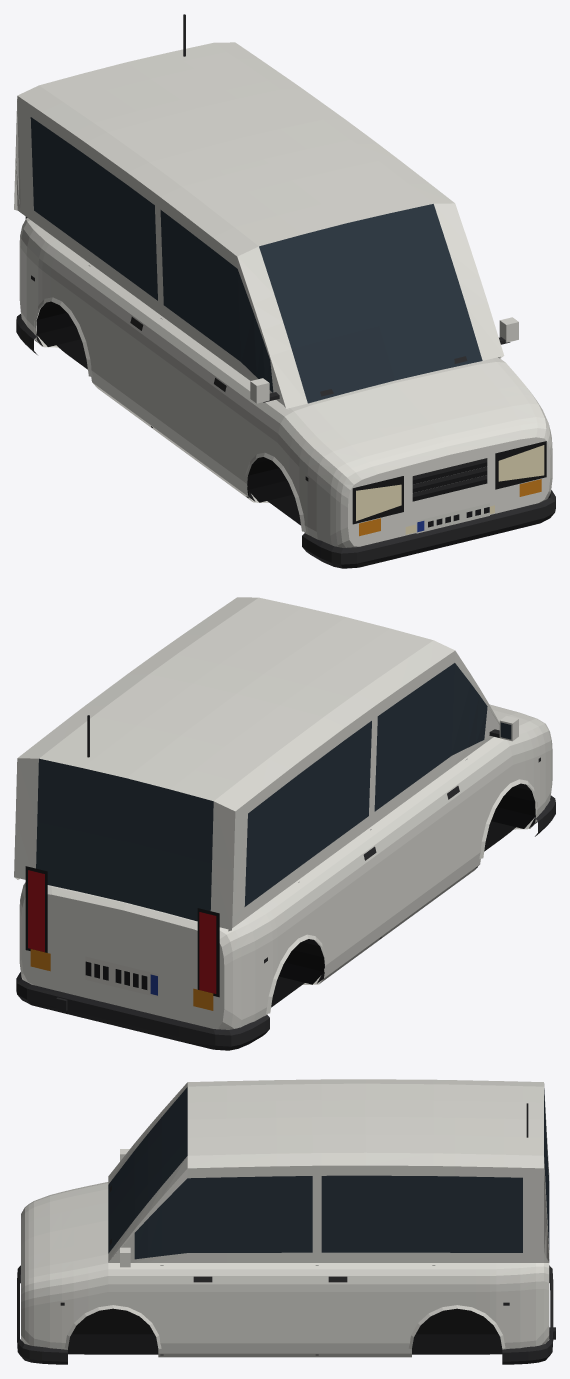
Rendered from renault-kangoo.glb.
3 views of the same model, one above another, from view 1: azimuth 30°, elevation 25°; view 2: azimuth 150°, elevation 25°; view 3: azimuth 270°, elevation 25° (orthographic). The views are drawn at different scales.
Parts seen in each view (by area): view 1: LOD0, door_FR, door_RR; view 2: LOD0, door_FR, door_RR; view 3: LOD0, door_FL, door_RL.
Part boxes in pixels (bbox=[...]): LOD0: bbox=[14, 14, 555, 568]; door_FR: bbox=[149, 197, 256, 494]; door_RR: bbox=[76, 143, 158, 423]; LOD0: bbox=[14, 597, 555, 1050]; door_FR: bbox=[374, 650, 479, 934]; door_RR: bbox=[299, 708, 382, 977]; LOD0: bbox=[17, 1079, 555, 1364]; door_FL: bbox=[162, 1166, 315, 1353]; door_RL: bbox=[318, 1165, 433, 1353].
Size of what is drawn, in the model's own units: 1.86 by 1.96 by 4.1.
